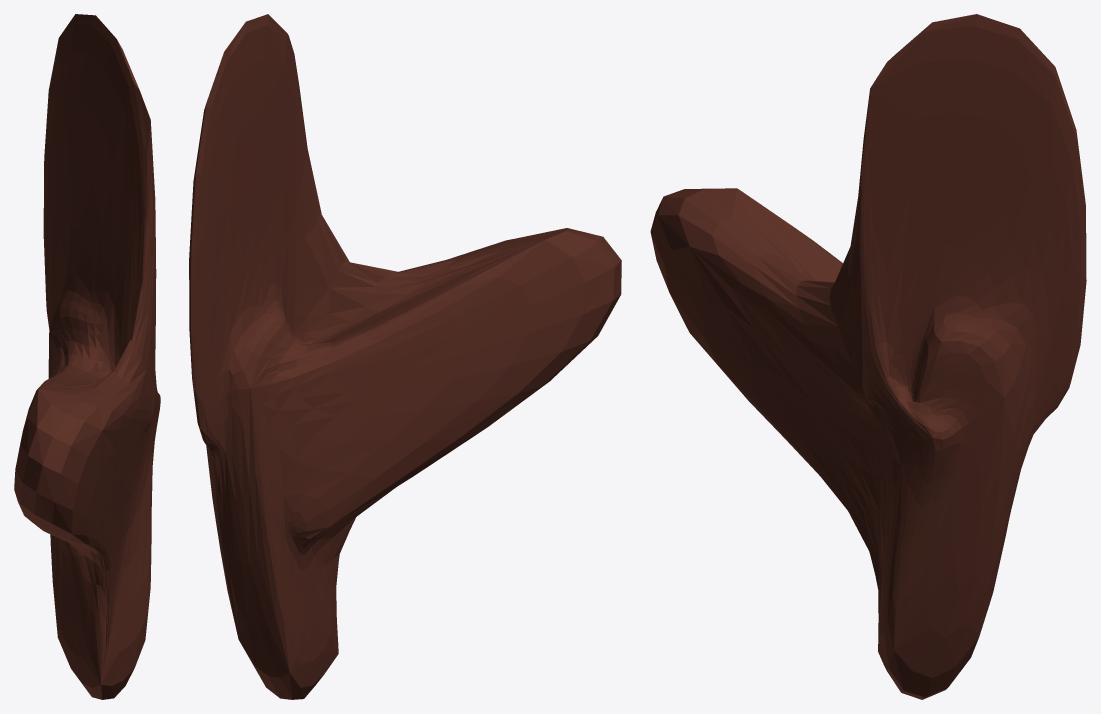
3 views of the same model, side by side, from view 1: azimuth 30°, elevation 25°; view 2: azimuth 150°, elevation 25°; view 3: azimuth 270°, elevation 25° (orthographic). The views are drawn at different scales.
Visible parts, largest first — view 1: 717_Cube.2880; view 2: 717_Cube.2880; view 3: 717_Cube.2880.
Boxes of the visible parts, x1=… form: 717_Cube.2880: x1=14, y1=14, x2=160, y2=699; 717_Cube.2880: x1=189, y1=14, x2=621, y2=699; 717_Cube.2880: x1=650, y1=14, x2=1086, y2=699.
Size of the model in its own units: 8.21 by 20.24 by 11.5.
